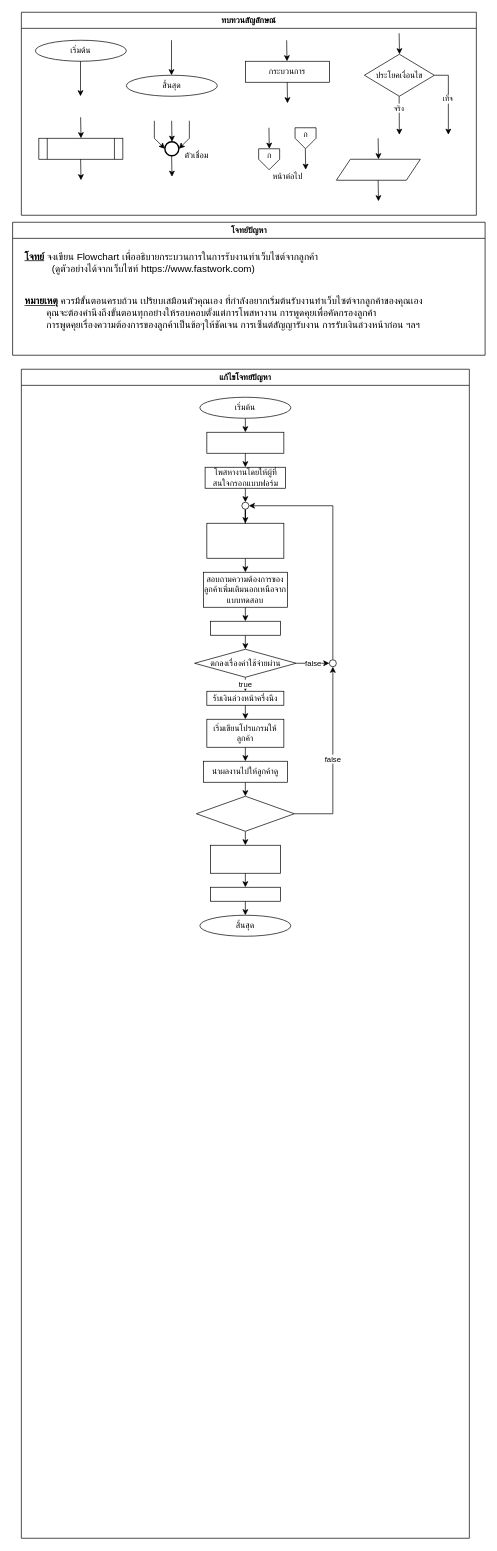
The diagram is 497 pixels wide and 1551 high, and some of its shapes have lost their labels. Here are the shapes that lost their labels. From the top down, the box of each, then its label:
(38, 138, 123, 159): ฟังก์ชัน/โมดูล
(336, 159, 420, 180): แสดงผล/รับค่า
(206, 432, 284, 453): สร้างแบบทดสอบเพื่อคัดกรองลูกค้า
(206, 523, 284, 558): เลือกลุกค้าที่ตรงตามความถนัดที่สุดและให้ผลตอบแทนดีที่สุด
(210, 621, 280, 635): ทำสัญญากับลูกค้า
(196, 796, 294, 831): ลูกค้าพอใจกับผลงาน
(210, 845, 280, 873): รับเงินอีกครึ่งนึงจากลูกค้า
(210, 887, 280, 901): ให้ผลงานกับลูกค้า
